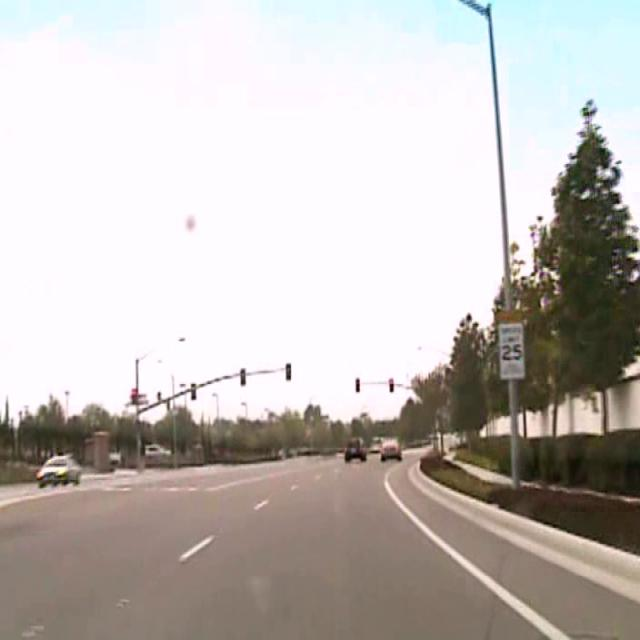speedLimit25: (496, 309, 526, 380)
